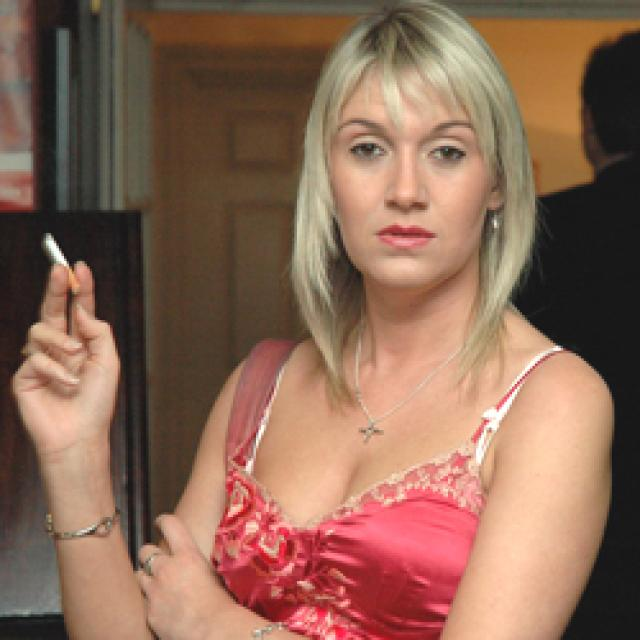Smooking: (39, 228, 80, 281)
